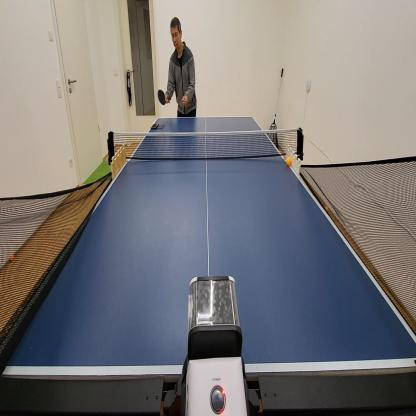Ball: (286, 156, 292, 167), (9, 254, 15, 262), (324, 204, 329, 212), (185, 90, 188, 94)
